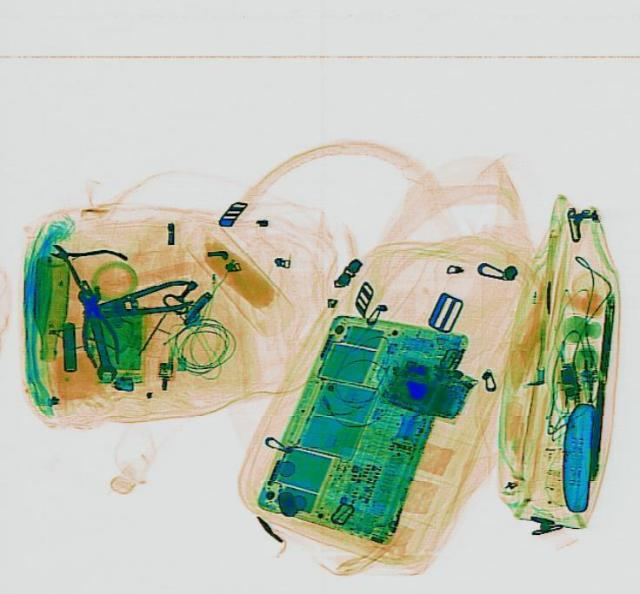Pliers: (35, 223, 128, 299), (75, 274, 197, 328), (66, 277, 122, 367)
Wrench: (72, 286, 118, 380)
